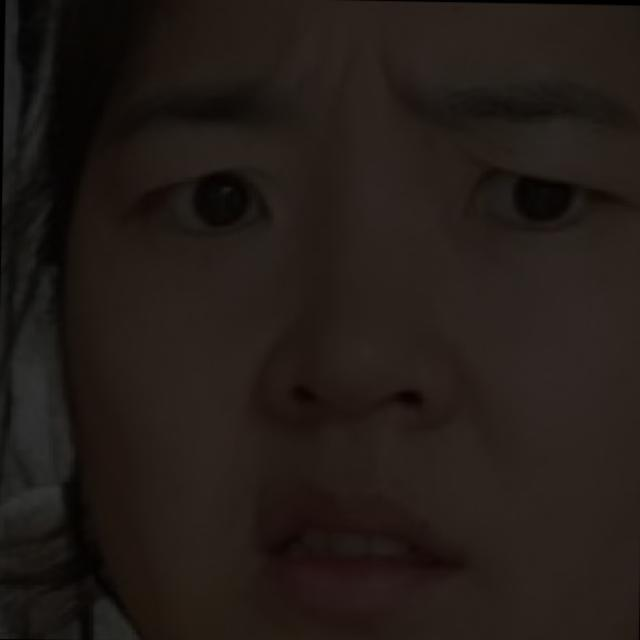angry: (32, 83, 640, 640)
